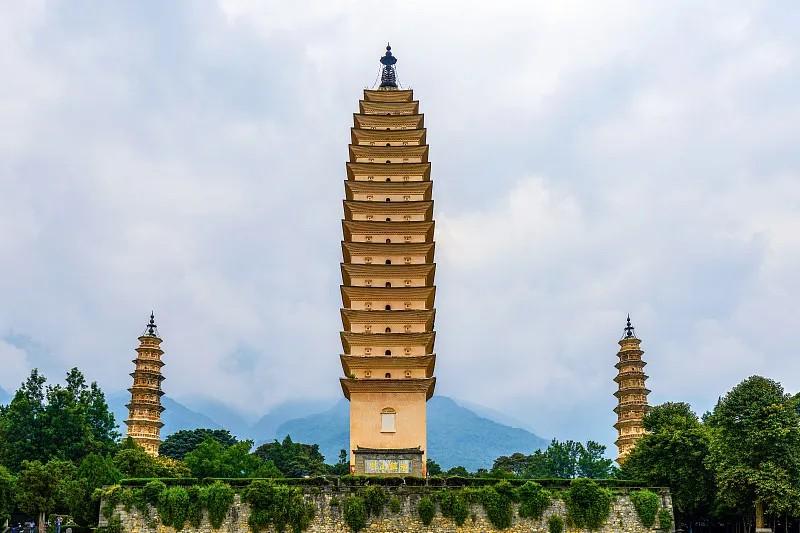ThreePagoda: (340, 41, 436, 474)
